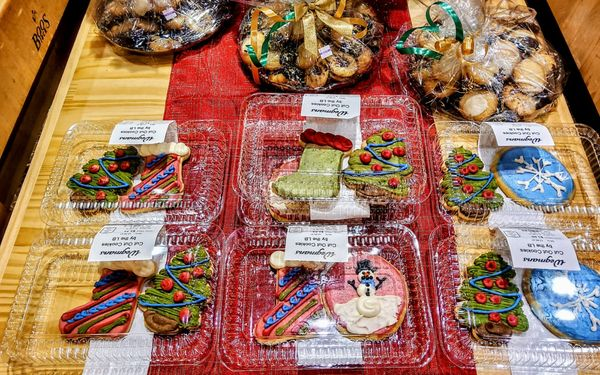curry: (0, 2, 588, 375)
steak: (493, 146, 575, 210)
